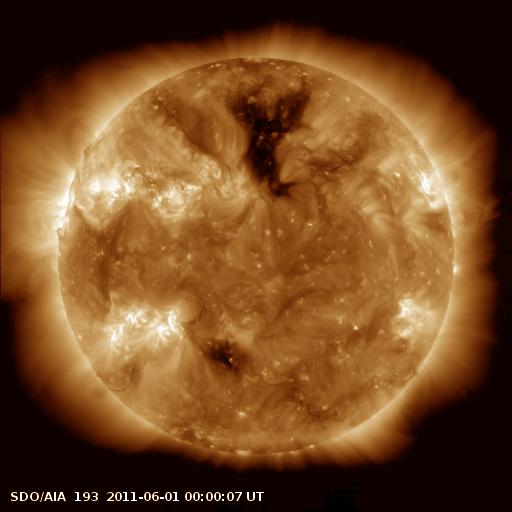coronal_hole: (214, 84, 314, 199), (201, 336, 249, 379)
